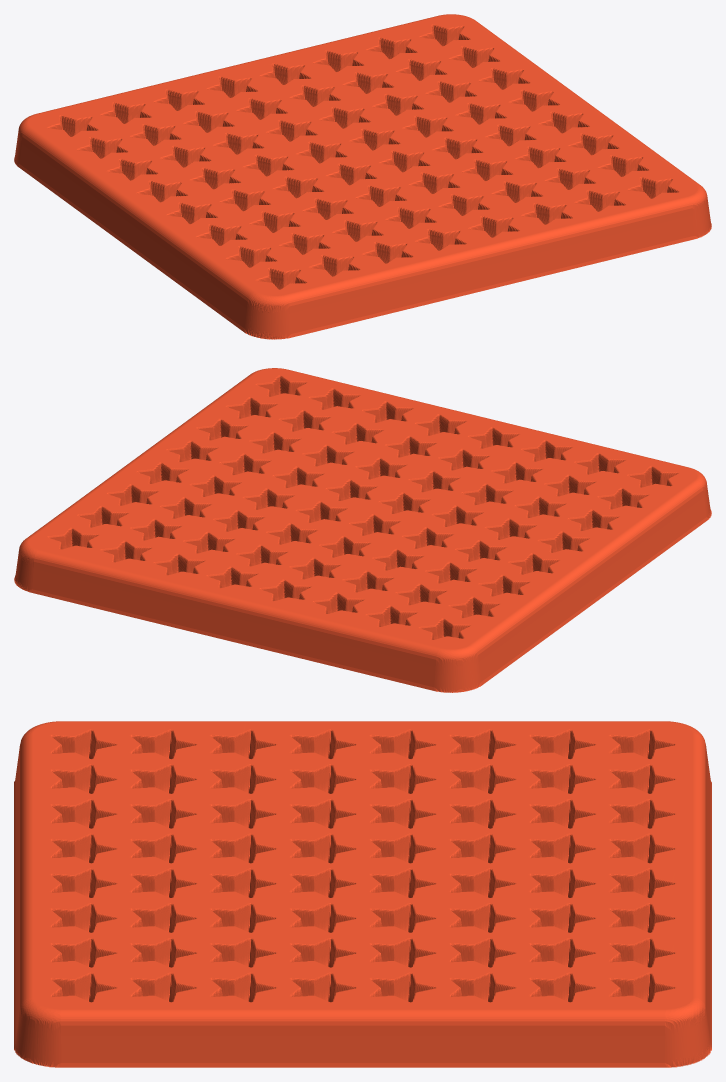
File: mold.glb
3 views of the same model, one above another, from view 1: azimuth 30°, elevation 25°; view 2: azimuth 150°, elevation 25°; view 3: azimuth 270°, elevation 25° (orthographic). The views are drawn at different scales.
Visible parts, largest first — view 1: geometry_0; view 2: geometry_0; view 3: geometry_0.
Boxes of the visible parts, x1,y1,x2,y2 form: geometry_0: (14,14,711,339); geometry_0: (14,368,711,692); geometry_0: (14,721,711,1067).
Size of the model in its own units: 0.1355 by 0.0105 by 0.1319.
